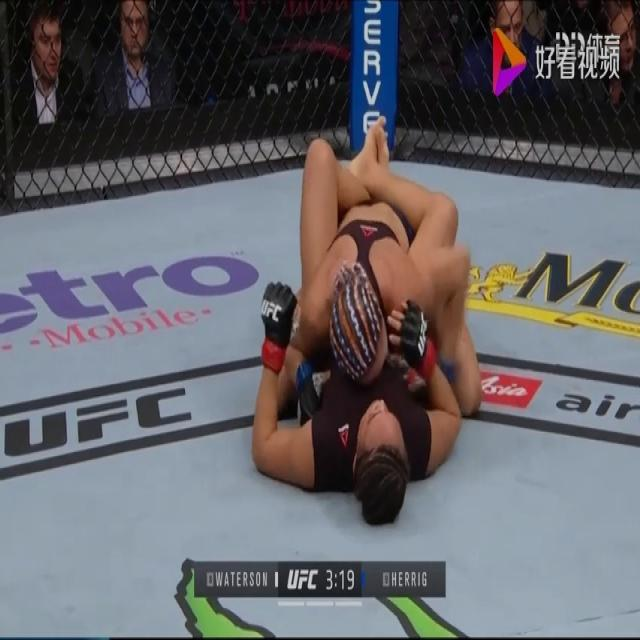fight: (239, 110, 506, 530)
